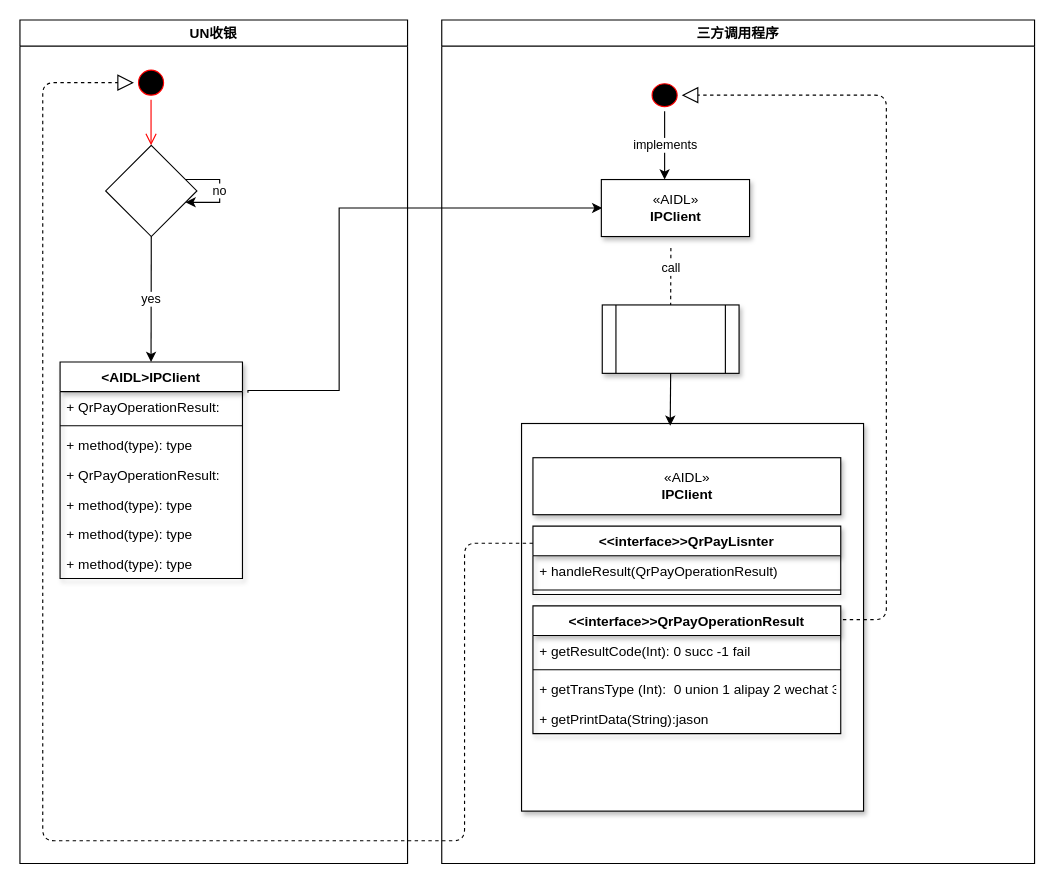
Image size: 1055x884. Some labels were removed from this diagram. The shapes that lost their labels are listed below. From the top down, each one's centre as x and y in pixels, then its label:
At point 151,190: "scan success?".
At point 671,340: "own pay method".
